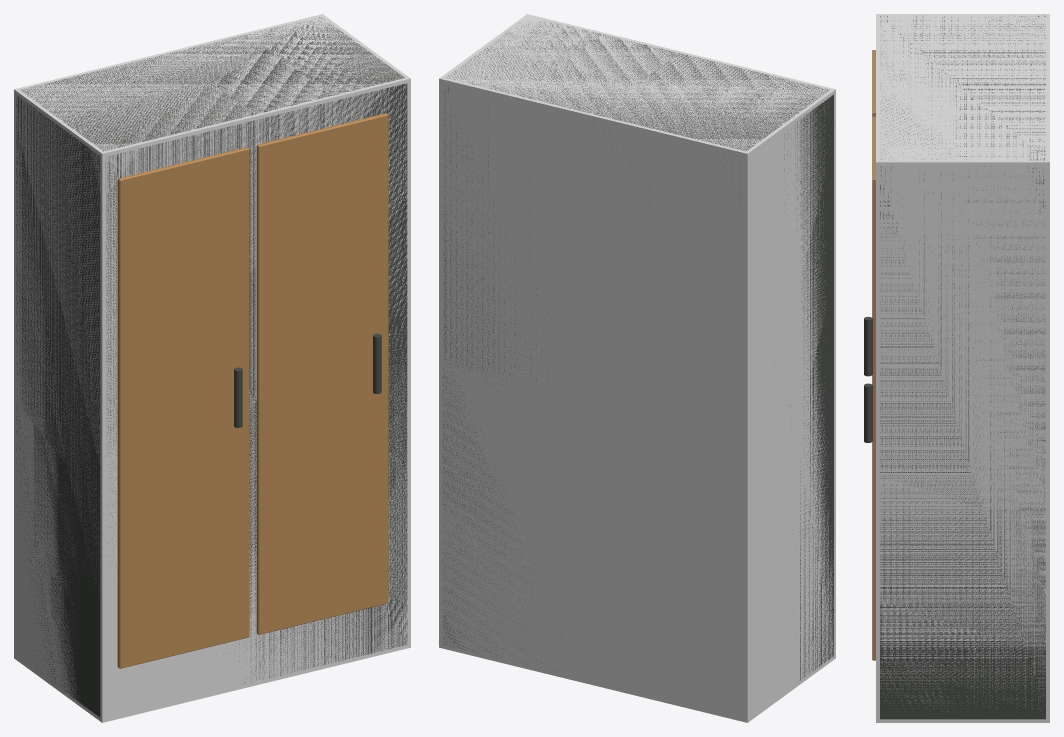
Rendered from storage-cabinet_commercial.glb.
3 views of the same model, side by side, from view 1: azimuth 30°, elevation 25°; view 2: azimuth 150°, elevation 25°; view 3: azimuth 270°, elevation 25° (orthographic).
Parts seen in each view (by area): view 1: COL_storage-cabinet, MESH_CabinetCarcass, MESH_Door_01, MESH_Door_02; view 2: COL_storage-cabinet, MESH_CabinetCarcass; view 3: COL_storage-cabinet, MESH_CabinetCarcass, MESH_Door_02, MESH_Handle, MESH_Handle.001.
Boxes of the visible parts, box(x1,y1,x2,y2) form: COL_storage-cabinet: box(14, 14, 410, 722); MESH_CabinetCarcass: box(16, 17, 407, 717); MESH_Door_01: box(117, 147, 249, 668); MESH_Door_02: box(256, 113, 388, 634); COL_storage-cabinet: box(439, 14, 835, 722); MESH_CabinetCarcass: box(442, 21, 833, 681); COL_storage-cabinet: box(876, 14, 1049, 722); MESH_CabinetCarcass: box(880, 15, 1045, 719); MESH_Door_02: box(872, 116, 875, 660); MESH_Handle: box(864, 316, 872, 376); MESH_Handle.001: box(864, 383, 872, 442).
Size of the model in its own units: 1.05 by 1.85 by 0.556.
